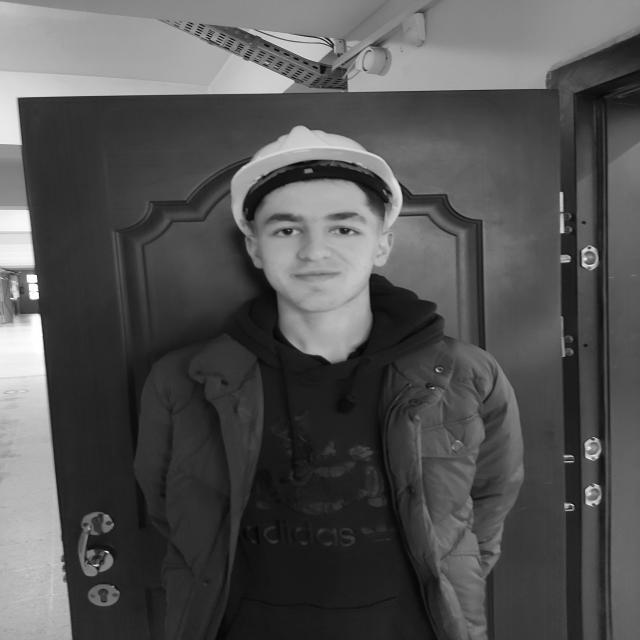safety_helmet: (227, 127, 405, 240)
